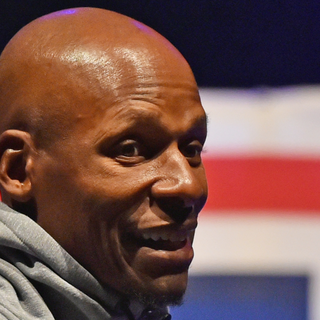eye: (97, 134, 152, 165), (175, 135, 207, 166)
